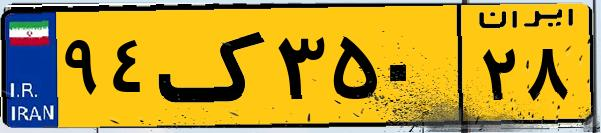0: (385, 28, 445, 110)
2: (475, 38, 525, 113)
3: (270, 28, 330, 110)
4: (110, 28, 158, 98)
5: (330, 28, 385, 110)
8: (525, 38, 570, 115)
9: (57, 26, 110, 100)
ک: (158, 12, 270, 120)
